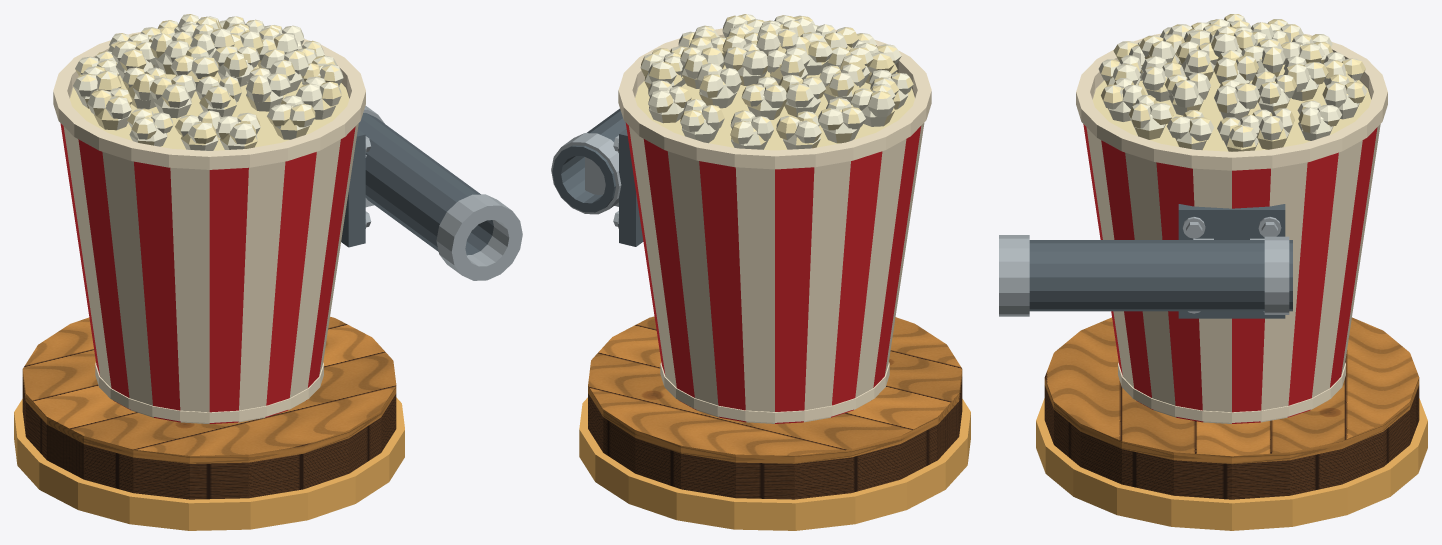
Rendered from Popcorn.glb.
The picture shows the model from 3 angles, left to right: view 1: azimuth 30°, elevation 25°; view 2: azimuth 150°, elevation 25°; view 3: azimuth 270°, elevation 25°; orthographic projection.
Visible parts, largest first — view 1: Striped tapered popcorn bucket, pedestal, rim, Rolled ivory rim, Side popcorn barrel, Front muzzle collar, Popcorn below rim, Bottom paper seam, Side mounting plate, Popcorn kernel 21, Popcorn kernel 12, Popcorn kernel 08 (+18 smaller); view 2: Striped tapered popcorn bucket, pedestal, rim, Rolled ivory rim, Side popcorn barrel, Popcorn below rim, Bottom paper seam, Side mounting plate, Popcorn kernel 07, Popcorn kernel 17, Popcorn kernel 04, Popcorn kernel 03 (+21 smaller); view 3: Striped tapered popcorn bucket, pedestal, Side popcorn barrel, rim, Rolled ivory rim, Side mounting plate, Popcorn below rim, Bottom paper seam, Front muzzle collar, Rear securing collar, Popcorn kernel 24, Popcorn kernel 13 (+18 smaller).
Boxes of the visible parts, x1,y1,x2,y2 form: Striped tapered popcorn bucket: (60, 82, 358, 424); pedestal: (22, 316, 396, 499); rim: (14, 397, 404, 530); Rolled ivory rim: (53, 32, 365, 169); Side popcorn barrel: (358, 113, 493, 255); Front muzzle collar: (436, 194, 522, 280); Popcorn below rim: (70, 64, 349, 150); Bottom paper seam: (95, 362, 323, 422); Side mounting plate: (341, 129, 365, 247); Popcorn kernel 21: (150, 74, 195, 118); Popcorn kernel 12: (267, 95, 315, 139); Popcorn kernel 08: (87, 88, 132, 130); Striped tapered popcorn bucket: (625, 80, 924, 423); pedestal: (588, 316, 962, 499); rim: (579, 397, 970, 530); Rolled ivory rim: (618, 28, 931, 169); Side popcorn barrel: (552, 108, 626, 212); Popcorn below rim: (635, 65, 914, 150); Bottom paper seam: (660, 362, 889, 422); Side mounting plate: (619, 128, 643, 246); Popcorn kernel 07: (818, 98, 865, 143); Popcorn kernel 17: (697, 63, 741, 108); Popcorn kernel 04: (680, 99, 724, 143); Popcorn kernel 03: (648, 80, 691, 123); Striped tapered popcorn bucket: (1083, 80, 1380, 423); pedestal: (1044, 317, 1419, 499); Side popcorn barrel: (1029, 240, 1292, 311); rim: (1036, 398, 1427, 530); Rolled ivory rim: (1076, 33, 1387, 170); Side mounting plate: (1178, 204, 1285, 318); Popcorn below rim: (1092, 64, 1371, 151); Bottom paper seam: (1118, 362, 1345, 422); Front muzzle collar: (999, 235, 1029, 316); Rear securing collar: (1264, 236, 1289, 314); Popcorn kernel 24: (1164, 73, 1210, 115); Popcorn kernel 13: (1129, 95, 1174, 139).
Size of the model in its own units: 0.969 by 1.06 by 0.985.
10 materials, 2 textured.
